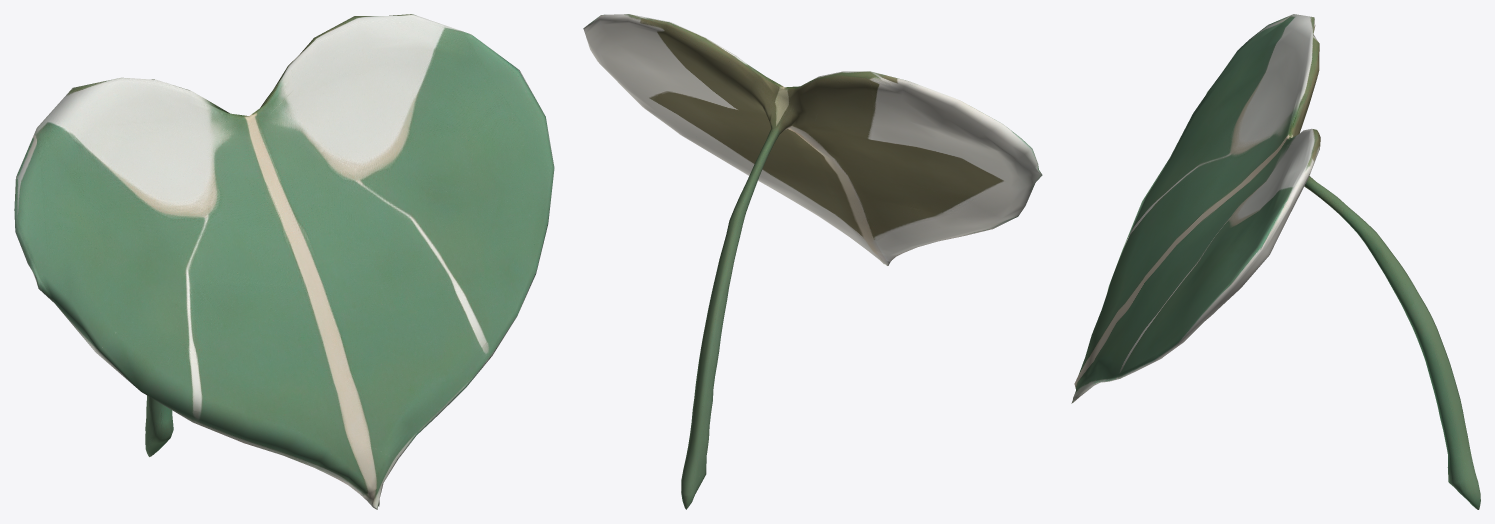
Rendered from test_albo_B_chubby.glb.
3 renders of one model, left to right at view 1: azimuth 30°, elevation 25°; view 2: azimuth 150°, elevation 25°; view 3: azimuth 270°, elevation 25°, orthographic. The views are drawn at different scales.
Bounding box in the file's own units: 2 × 1.75 × 1.54.
Materials: 1 (1 with a texture image).
